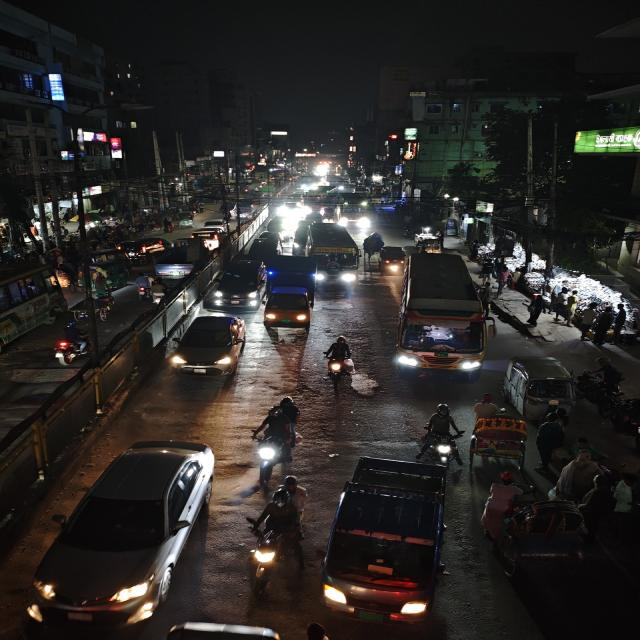bus: (395, 250, 491, 382), (0, 261, 67, 360), (301, 221, 362, 289), (303, 190, 341, 222), (338, 191, 371, 227)
car: (29, 438, 221, 627), (166, 312, 248, 380), (209, 257, 269, 307), (119, 236, 167, 256), (190, 221, 233, 239), (200, 218, 230, 232)
cng: (503, 353, 577, 419), (79, 249, 133, 295), (379, 244, 406, 276)
motorcycle: (244, 474, 314, 590), (245, 393, 305, 485), (421, 401, 461, 463), (320, 332, 360, 392), (600, 388, 640, 448), (52, 321, 92, 365), (148, 276, 169, 304), (134, 272, 152, 301)
pedestrian: (608, 473, 640, 521), (524, 286, 551, 326), (592, 306, 615, 348), (572, 304, 594, 340)
pickup_van: (151, 242, 208, 278)
rickshaw: (484, 495, 594, 579), (468, 413, 532, 475), (362, 230, 386, 262)
truck: (320, 451, 451, 625), (261, 254, 316, 329)
